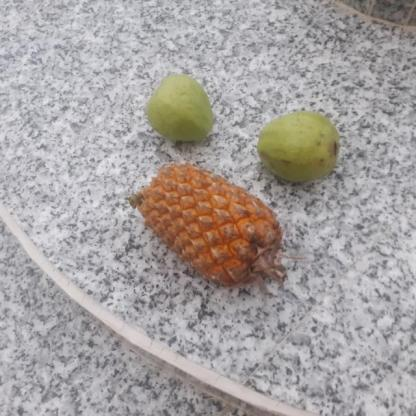guava: (252, 110, 340, 181), (143, 75, 215, 144)
pineapple: (130, 160, 292, 288)
